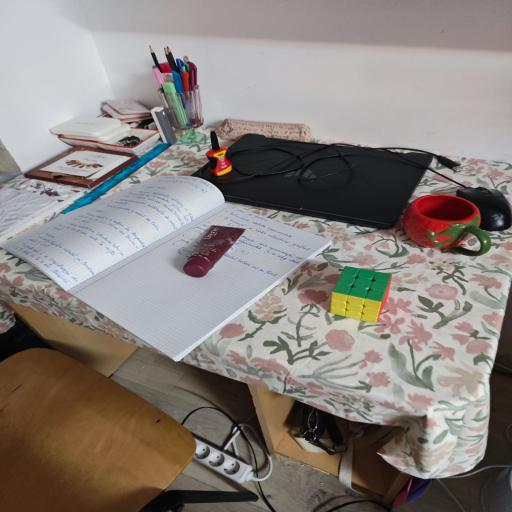Hand Cream: (182, 226, 243, 276)
Rubiks Cube: (324, 264, 391, 324)
Super Glue: (200, 126, 234, 176)
